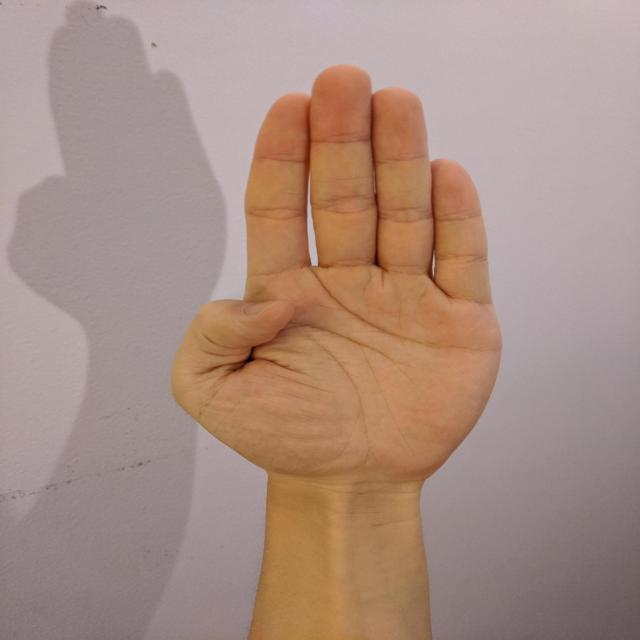B: (163, 60, 512, 493)
